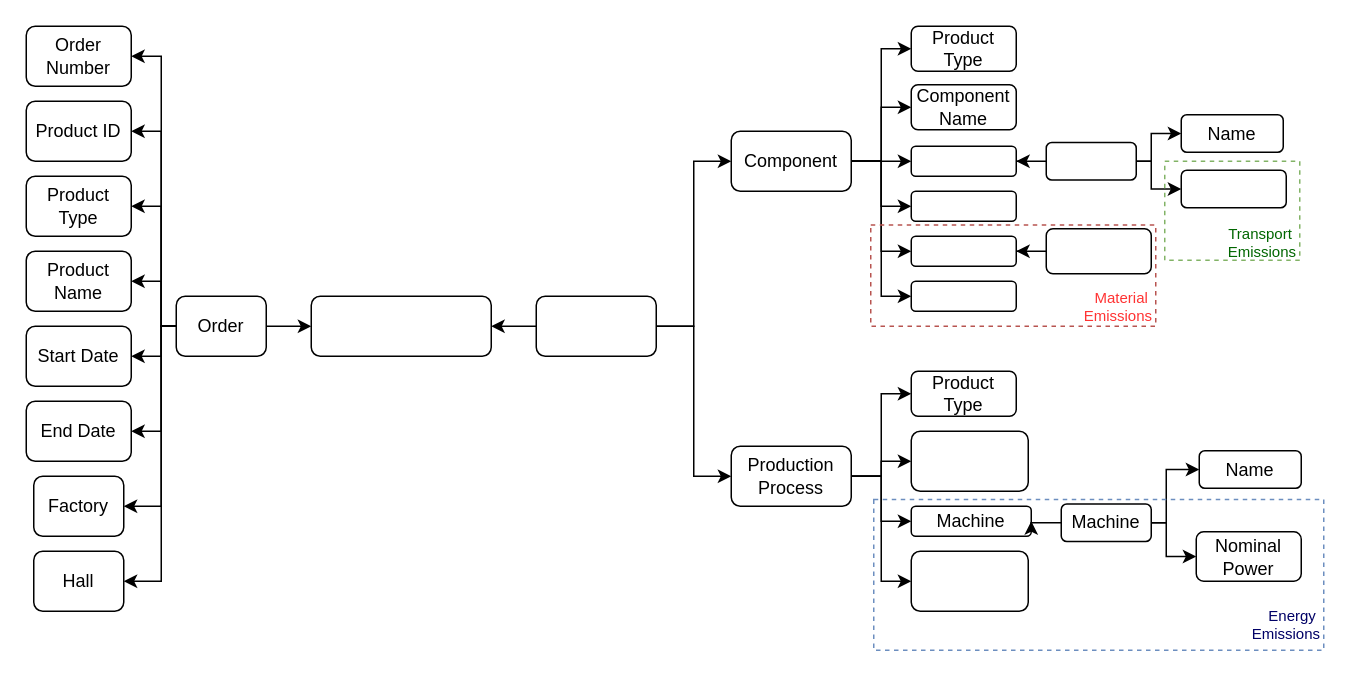
The diagram is 1350 pixels wide and 677 high, and some of its shapes have lost their labels. The centre of each missing label's shape, as x and y in pixels:
"Distance" goes at point (1233, 188).
"Mass" goes at point (963, 295).
"Material" goes at point (963, 250).
"Materials Database" goes at point (1098, 250).
"Process Minutes" goes at point (969, 580).
"Process N ame" goes at point (969, 460).
"Product" goes at point (595, 325).
"Product Carbon Footprint" goes at point (400, 325).
"Quantity" goes at point (963, 205).
"Supplier" goes at point (1090, 160).
"SupplierID" goes at point (963, 160).
